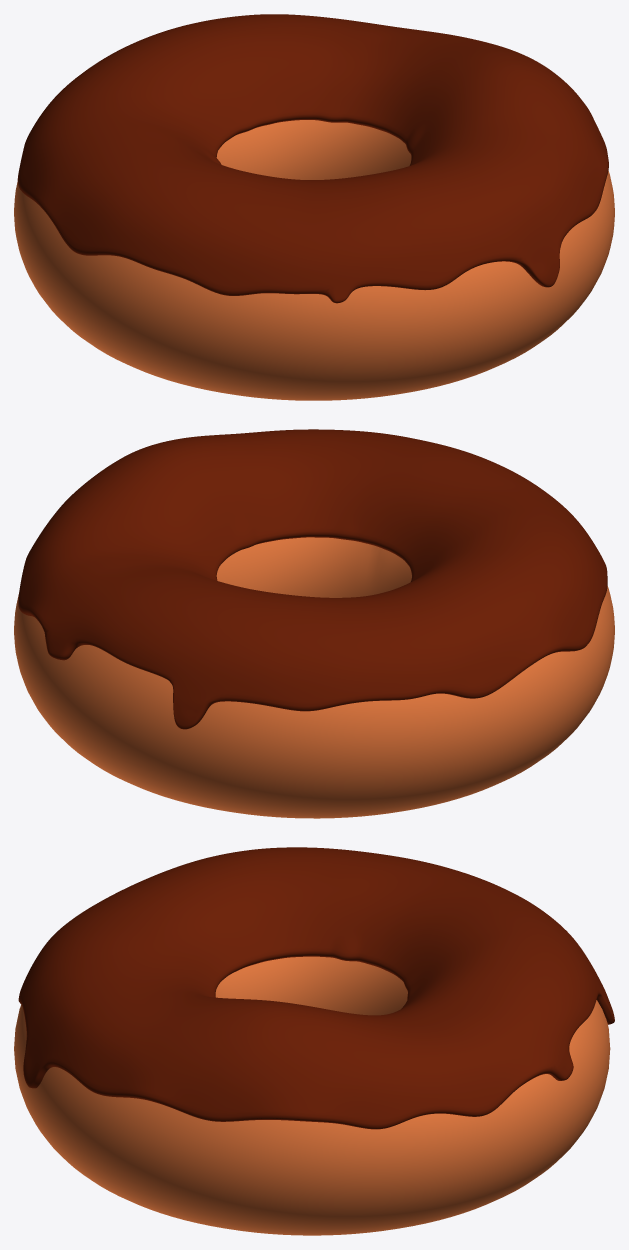
The model's file is Donut.fbx.
3 views of the same model, one above another, from view 1: azimuth 30°, elevation 25°; view 2: azimuth 150°, elevation 25°; view 3: azimuth 270°, elevation 25° (orthographic).
Visible parts, largest first — view 1: Icing, Donut; view 2: Icing, Donut; view 3: Icing, Donut.
Part boxes in pixels (<box>): Icing: <box>17,14,608,303</box>; Donut: <box>14,120,614,400</box>; Icing: <box>18,429,607,729</box>; Donut: <box>14,537,614,818</box>; Icing: <box>18,847,614,1129</box>; Donut: <box>14,956,610,1235</box>.
Size of the model in its own units: 15.2 by 6.07 by 15.32.
